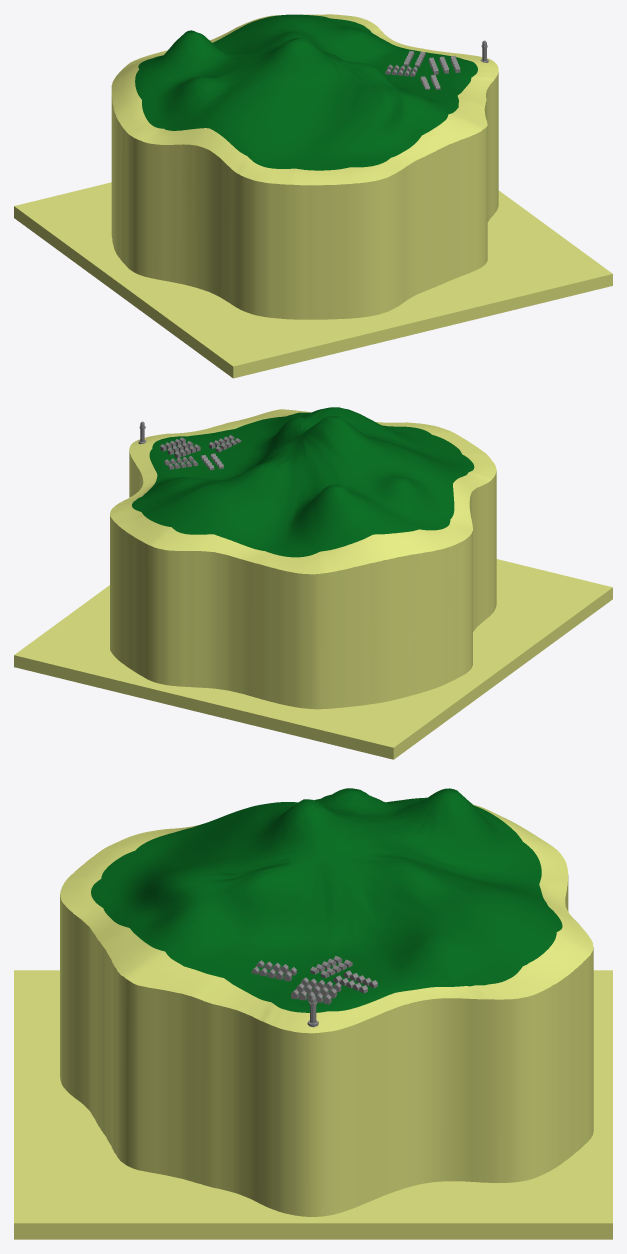
File: Quest_Big_Island_02.fbx
The picture shows the model from 3 angles, top to bottom: view 1: azimuth 30°, elevation 25°; view 2: azimuth 150°, elevation 25°; view 3: azimuth 270°, elevation 25°; orthographic projection. The views are drawn at different scales.
Parts seen in each view (by area): view 1: Quest_Big_Island_02, Big_Quest_02; view 2: Quest_Big_Island_02, Big_Quest_02; view 3: Quest_Big_Island_02, Big_Quest_02.
Part boxes in pixels (bbox=[...]): Quest_Big_Island_02: bbox=[14, 14, 612, 378]; Big_Quest_02: bbox=[385, 40, 488, 89]; Quest_Big_Island_02: bbox=[14, 407, 612, 759]; Big_Quest_02: bbox=[138, 421, 241, 470]; Quest_Big_Island_02: bbox=[14, 788, 612, 1239]; Big_Quest_02: bbox=[251, 955, 377, 1027].
Bounding box in the file's own units: 136 × 74.87 × 136.
